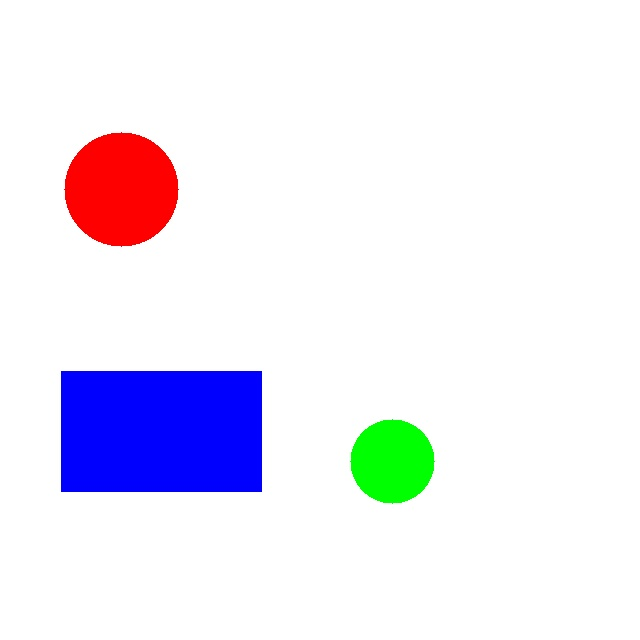cartao: (61, 371, 261, 491)
rosca_externa: (350, 419, 434, 503)
rosca_interna: (64, 132, 178, 246)
